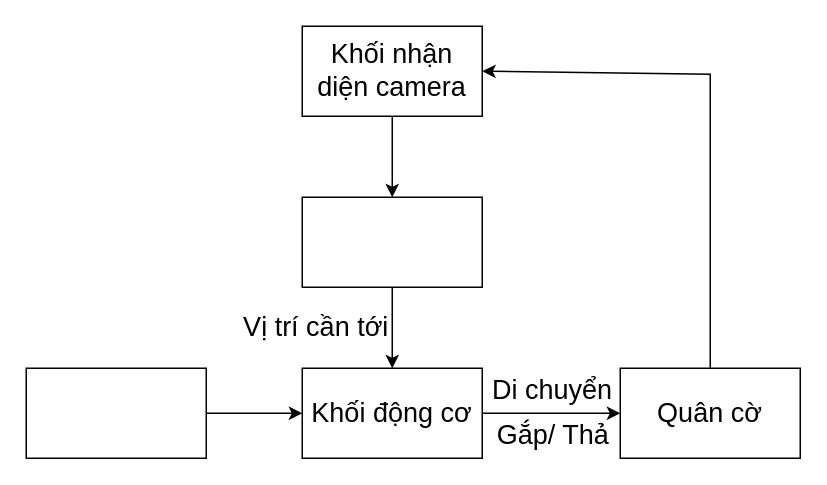
This 827x485 diagram has some shape labels left out. The shapes that lost their labels are listed below. From the top down, each one's box as (x1, y1, x2, y2) in pixels, then its label:
(301, 196, 482, 287): Khối xử lý
(25, 367, 206, 458): Khối nguồn
